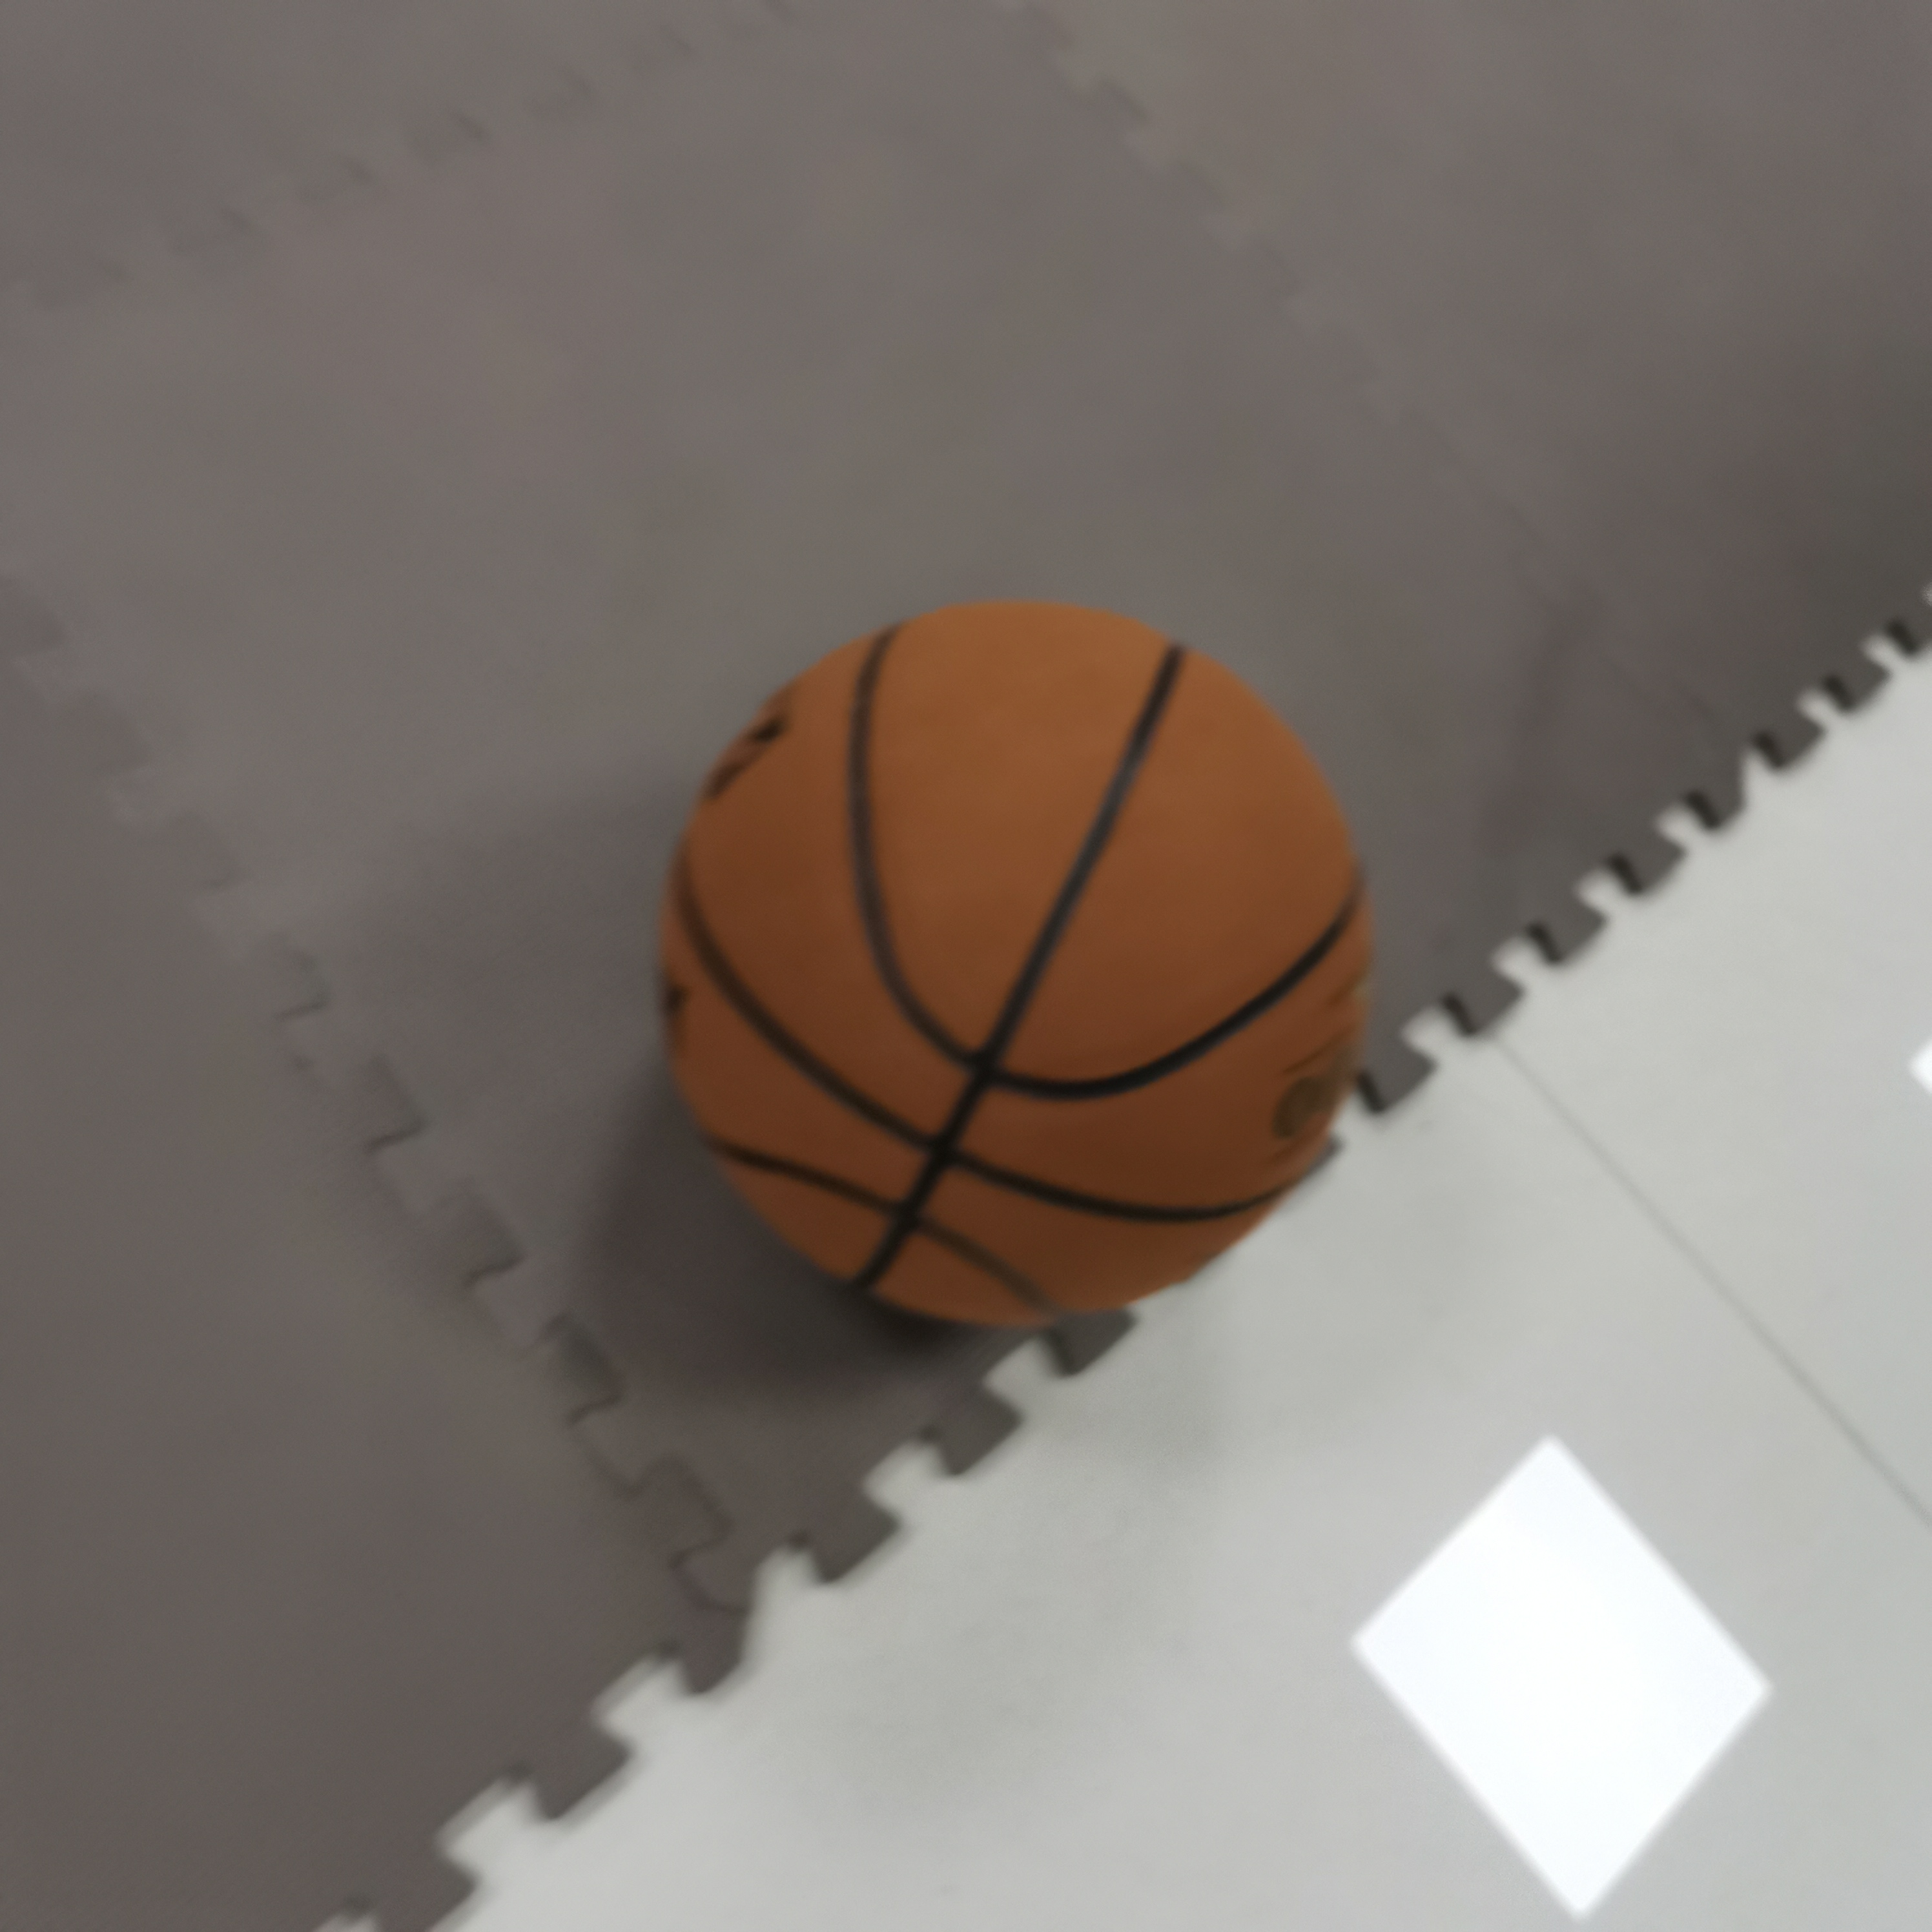basketball: (656, 596, 1369, 1332)
